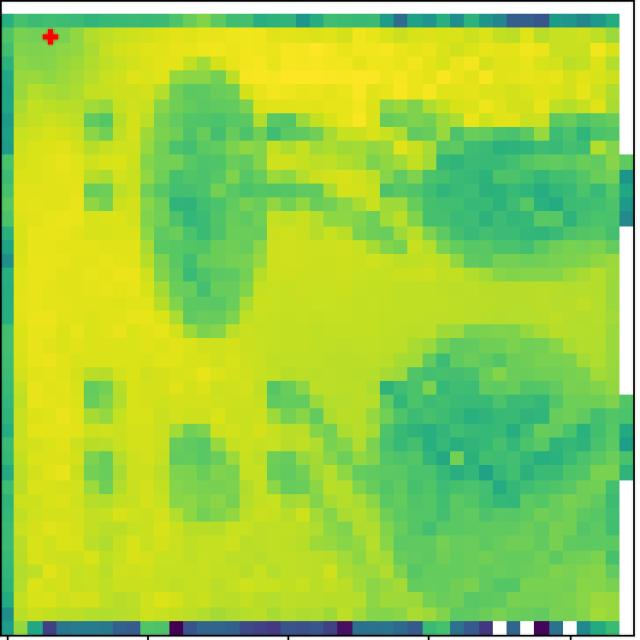Concrete: (150, 70, 264, 329)
Glass: (160, 421, 250, 524)
Metal: (435, 126, 602, 264)
Wood: (385, 335, 607, 583)
